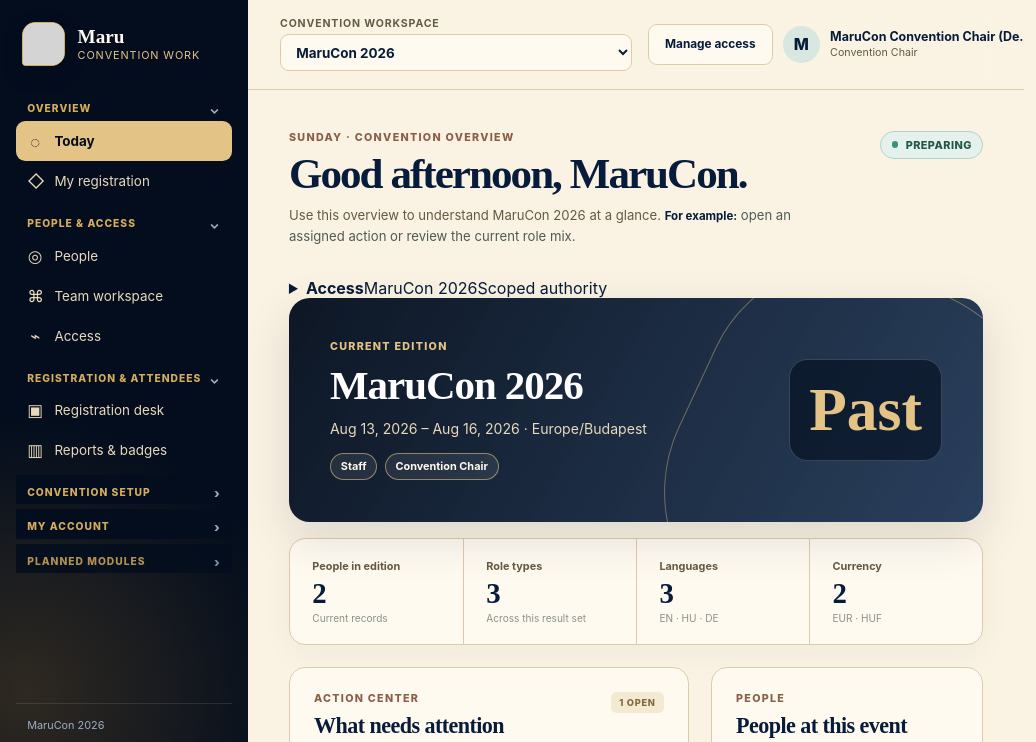
Management Console › does not present partial Workforce counts when the structure exceeds its safety limit
The width and height of the screenshot is (1036, 742).
Expected: the heading "MaruCon 2026" is shown, [330,362,583,408]
Click the button "⌘ Team workspace": (124, 296) [16,276,232,316]
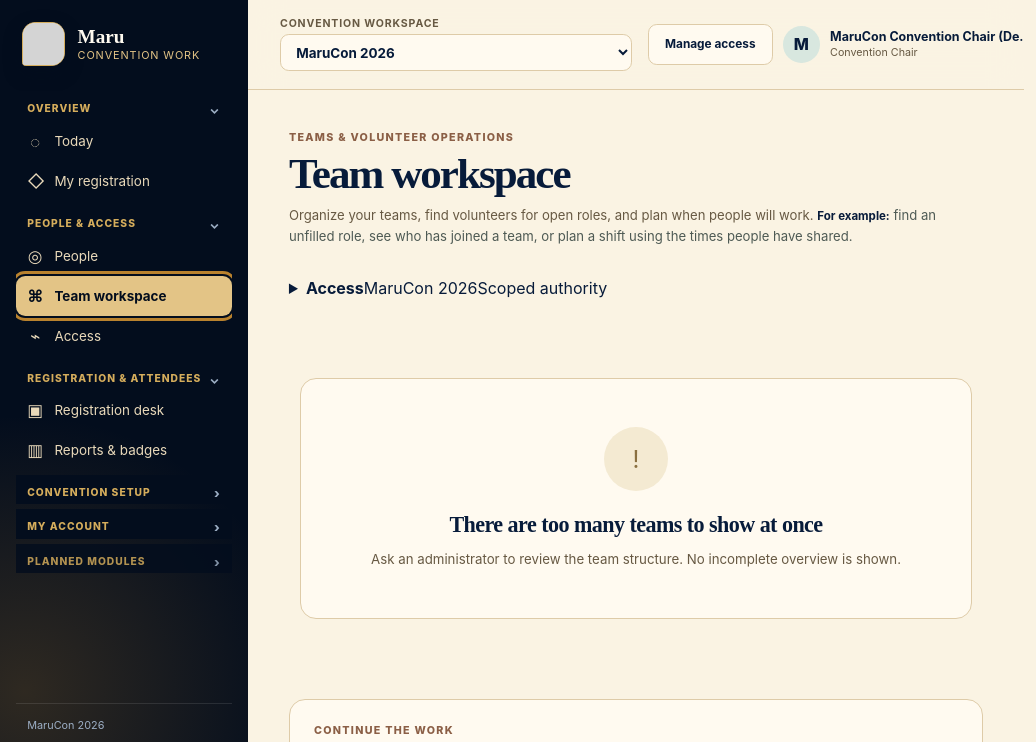
Now the heading "There are too many teams to show at once" is shown, box [449,512,823,537]
